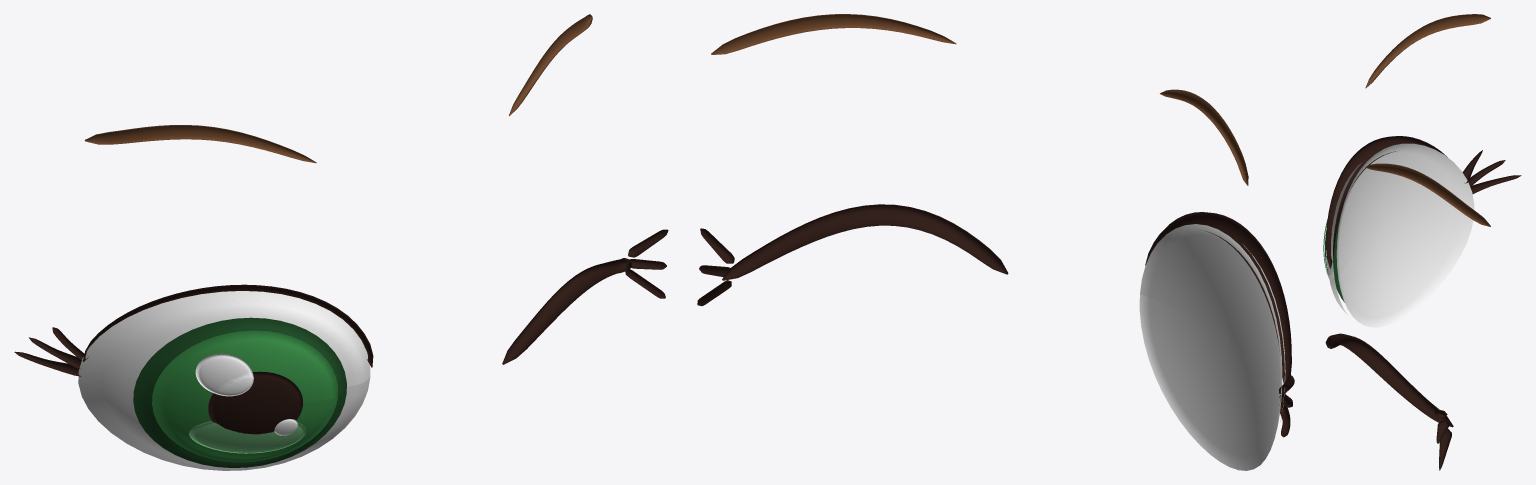
Rendered from eyes-wink.glb.
3 renders of one model, left to right at view 1: azimuth 30°, elevation 25°; view 2: azimuth 150°, elevation 25°; view 3: azimuth 270°, elevation 25°, orthographic. The views are drawn at different scales.
Visible parts, largest first — view 1: eyeball, iris, irisrim, lid (×2), brows, pupil, irislight, shine; view 2: eyeball, lid (×2), brows; view 3: eyeball, lid (×2), brows, lash2 (×2), irisrim, lash1.
Boxes of the visible parts, box(x1,y1,x2,y2) form: eyeball: box(78, 291, 370, 470); iris: box(152, 330, 337, 462); irisrim: box(133, 317, 346, 467); lid (×2): box(83, 258, 632, 367); brows: box(84, 14, 592, 163); pupil: box(208, 371, 302, 434); irislight: box(189, 421, 306, 453); shine: box(195, 353, 253, 396); eyeball: box(1139, 224, 1285, 470); lid (×2): box(722, 204, 1291, 392); brows: box(711, 14, 1248, 185); eyeball: box(1326, 143, 1474, 327); lid (×2): box(1325, 136, 1453, 427); brows: box(1365, 14, 1490, 226); lash2 (×2): box(1439, 175, 1521, 470); irisrim: box(1325, 211, 1344, 302); lash1: box(1468, 160, 1505, 186).
Bounding box in the file's own units: 0.767 × 0.4123 × 0.2597.
